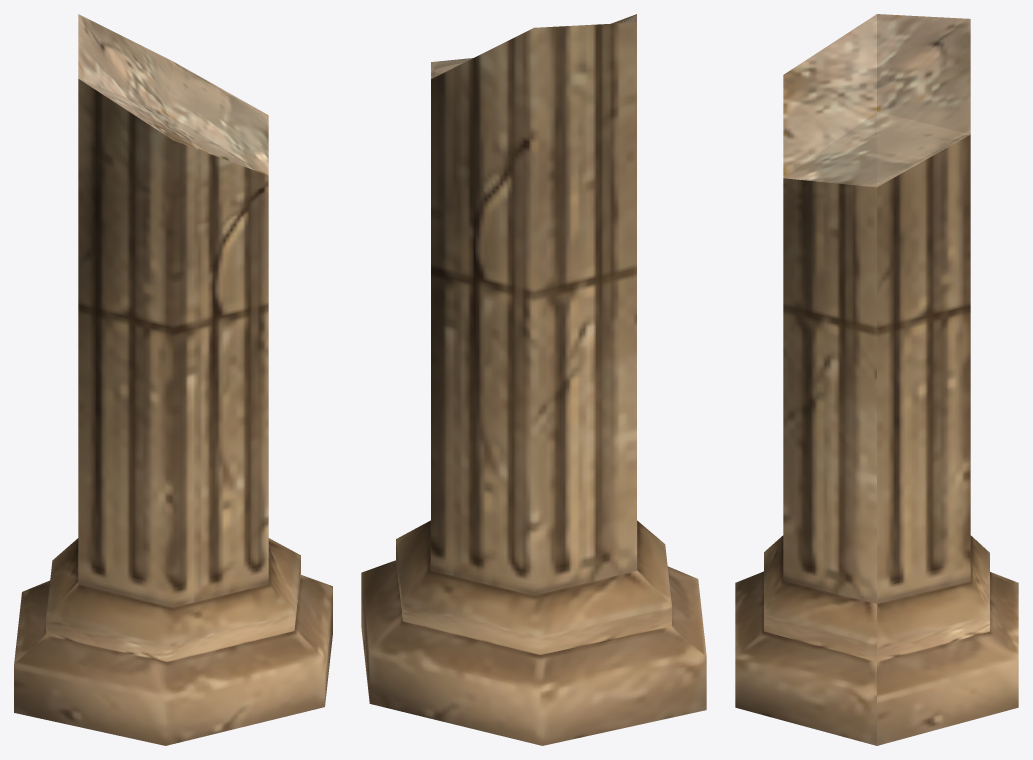
The model's file is Arena1_pillar_broken01.FBX.
3 renders of one model, left to right at view 1: azimuth 30°, elevation 25°; view 2: azimuth 150°, elevation 25°; view 3: azimuth 270°, elevation 25°, orthographic. The views are drawn at different scales.
Parts seen in each view (by area): view 1: Arena1_pillar_broken01; view 2: Arena1_pillar_broken01; view 3: Arena1_pillar_broken01.
Boxes of the visible parts, x1,y1,x2,y2 form: Arena1_pillar_broken01: [14, 14, 332, 745]; Arena1_pillar_broken01: [361, 14, 706, 745]; Arena1_pillar_broken01: [735, 14, 1018, 745].
Size of the model in its own units: 149 by 284 by 116.
